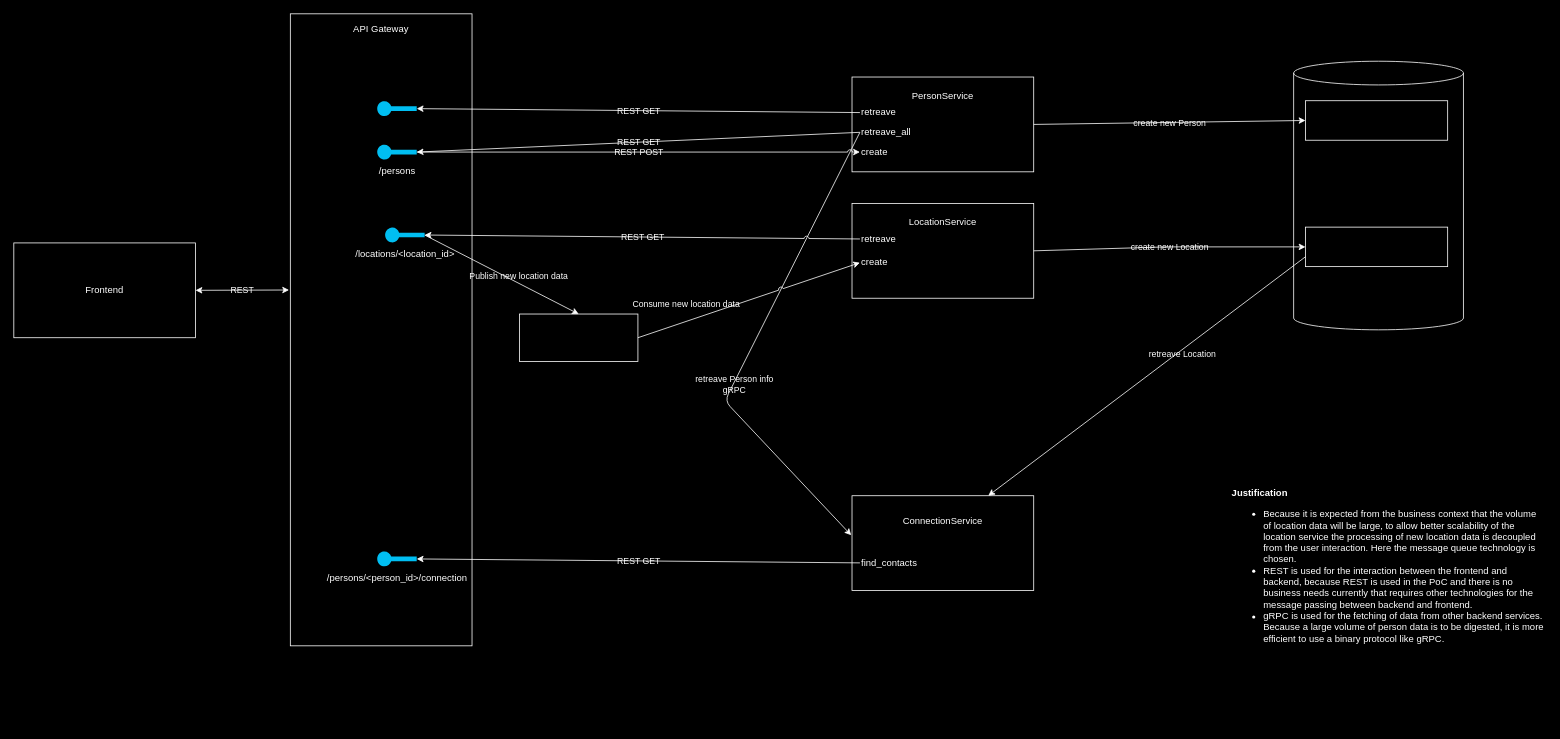
The diagram is 1560 pixels wide and 739 high, and some of its shapes have lost their labels. The centre of each missing label's shape, as x and y in pixels:
/persons/<person_id>: the point at 396,108
Location: the point at 1376,246
Message Queue Kafka: the point at 578,337
Person: the point at 1376,120
